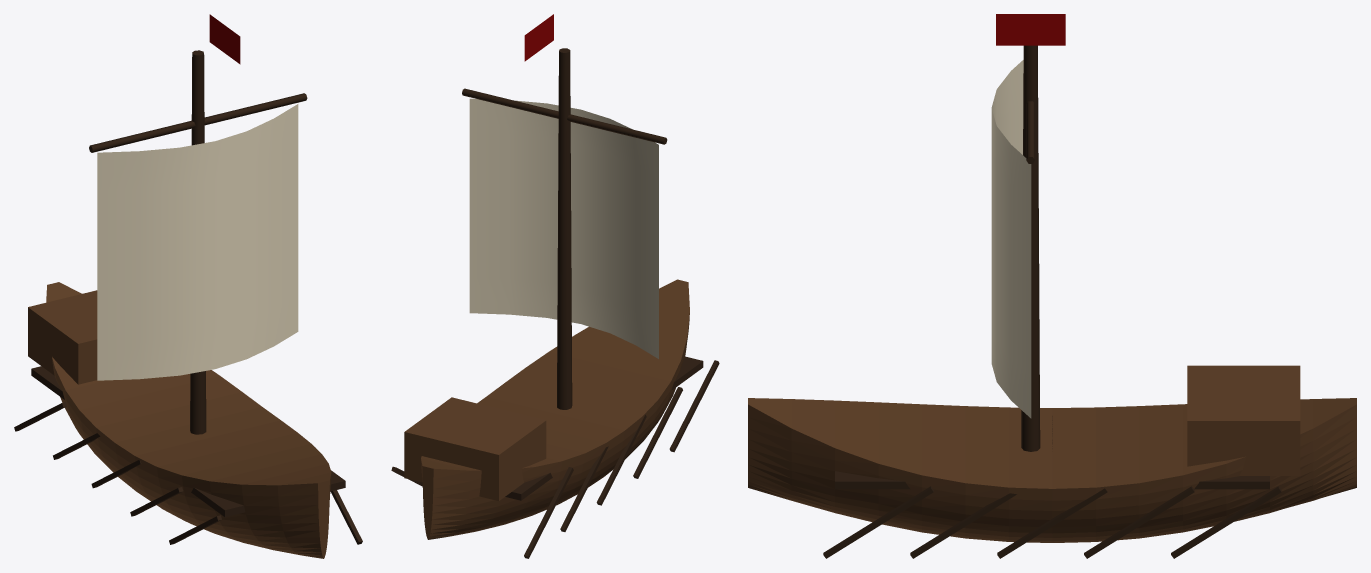
Rendered from ship.glb.
The picture shows the model from 3 angles, left to right: view 1: azimuth 30°, elevation 25°; view 2: azimuth 150°, elevation 25°; view 3: azimuth 270°, elevation 25°; orthographic projection. The views are drawn at different scales.
Visible parts, largest first — view 1: ship; view 2: ship; view 3: ship.
Part boxes in pixels (x1,y1,x2,y2): ship: (14,14,362,558); ship: (391,14,719,558); ship: (748,14,1356,558).
Bounding box in the file's own units: 6.4 × 13.6 × 14.
